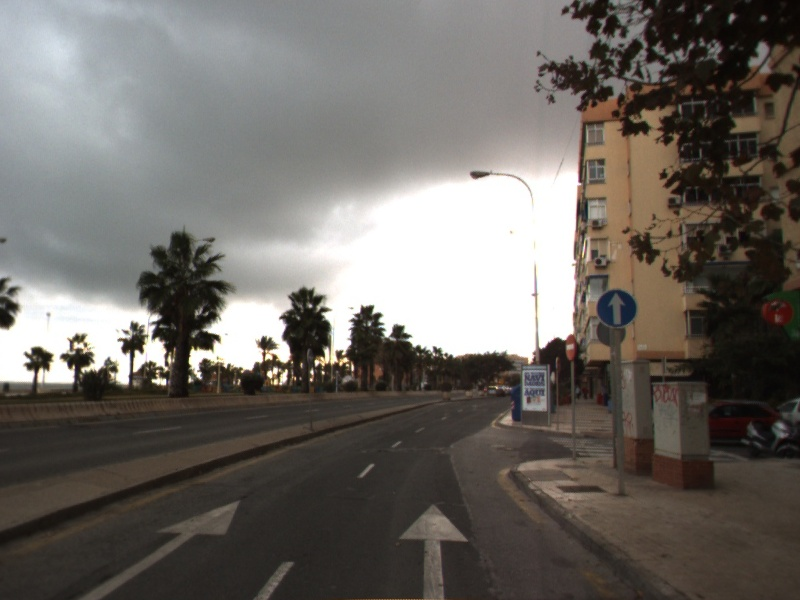STRAIGHT: (71, 498, 242, 600), (396, 501, 471, 600)
